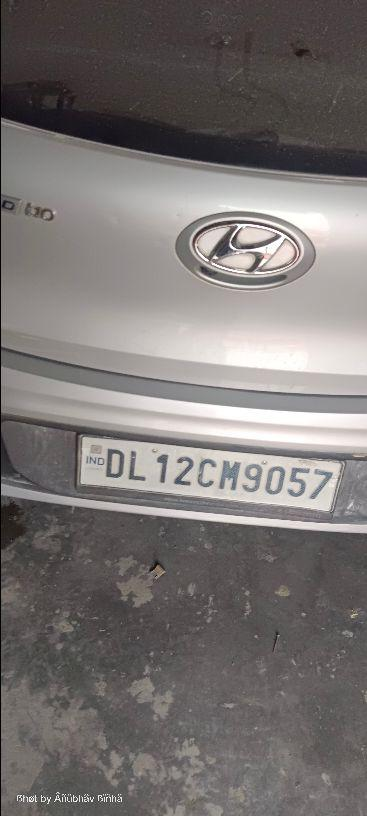license_plate: (74, 432, 345, 516)
